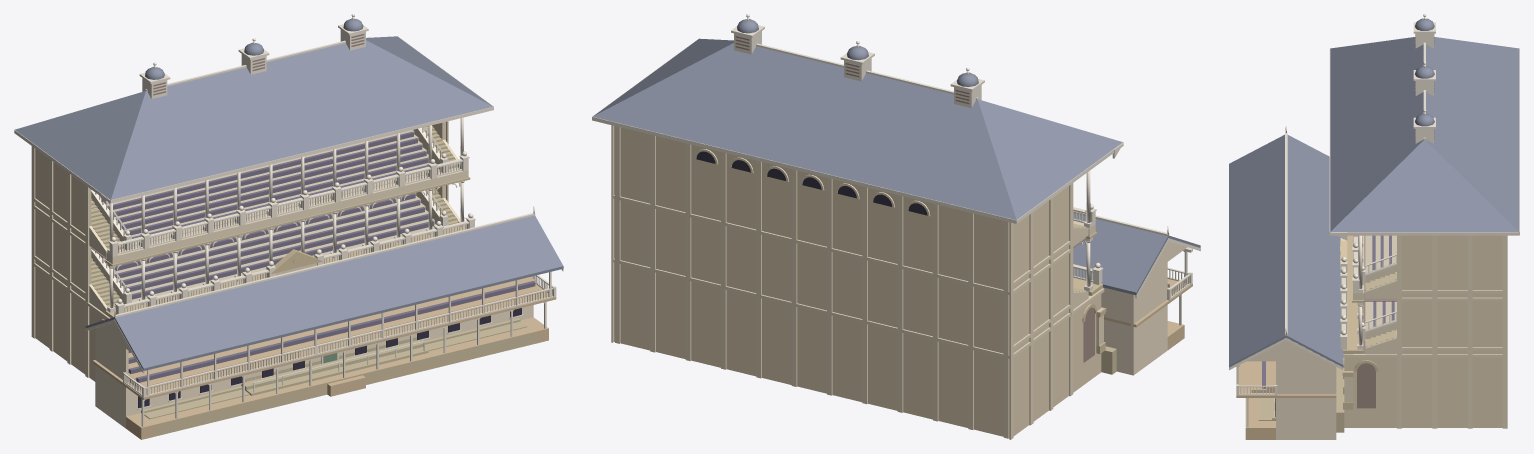
The model's file is gen-ring-r_stands.glb.
3 renders of one model, left to right at view 1: azimuth 30°, elevation 25°; view 2: azimuth 150°, elevation 25°; view 3: azimuth 270°, elevation 25°, orthographic. The views are drawn at different scales.
Visible parts, largest first — view 1: park_tiered_stand, pavilion_small, park_terrace; view 2: park_tiered_stand, pavilion_small; view 3: park_tiered_stand, pavilion_small.
Boxes of the visible parts, box(x1,y1,x2,y2) form: park_tiered_stand: box(14, 14, 533, 436); pavilion_small: box(85, 206, 563, 439); park_terrace: box(241, 337, 428, 395); park_tiered_stand: box(592, 14, 1123, 439); pavilion_small: box(1073, 211, 1200, 375); park_tiered_stand: box(1258, 14, 1519, 432); pavilion_small: box(1229, 126, 1343, 439).
Size of the model in its own units: 47.44 by 30.78 by 28.9.
